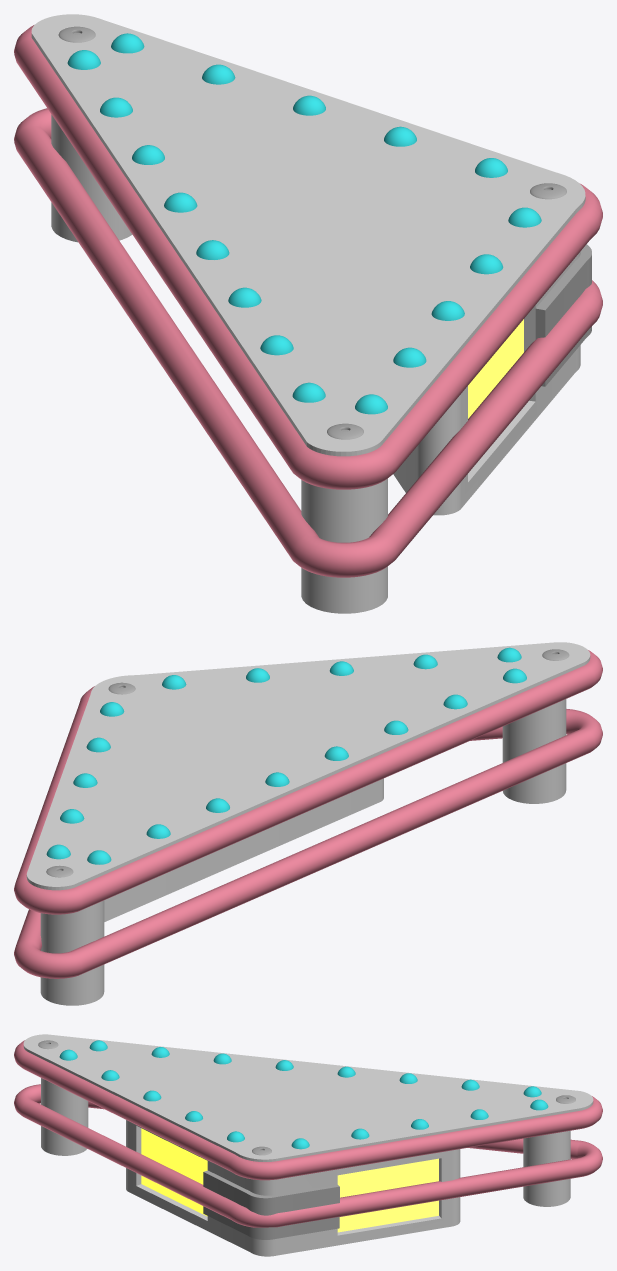
The model's file is Triangle bomper right.fbx.
The picture shows the model from 3 angles, top to bottom: view 1: azimuth 30°, elevation 25°; view 2: azimuth 150°, elevation 25°; view 3: azimuth 270°, elevation 25°; orthographic projection. The views are drawn at different scales.
Parts seen in each view (by area): view 1: Circle.005; view 2: Circle.005; view 3: Circle.005.
Part boxes in pixels (box(x1,y1,x2,y2)): Circle.005: box(14, 14, 602, 613); Circle.005: box(14, 642, 602, 1005); Circle.005: box(14, 1034, 602, 1256).
Bounding box in the file's own units: 279 × 101 × 522.
